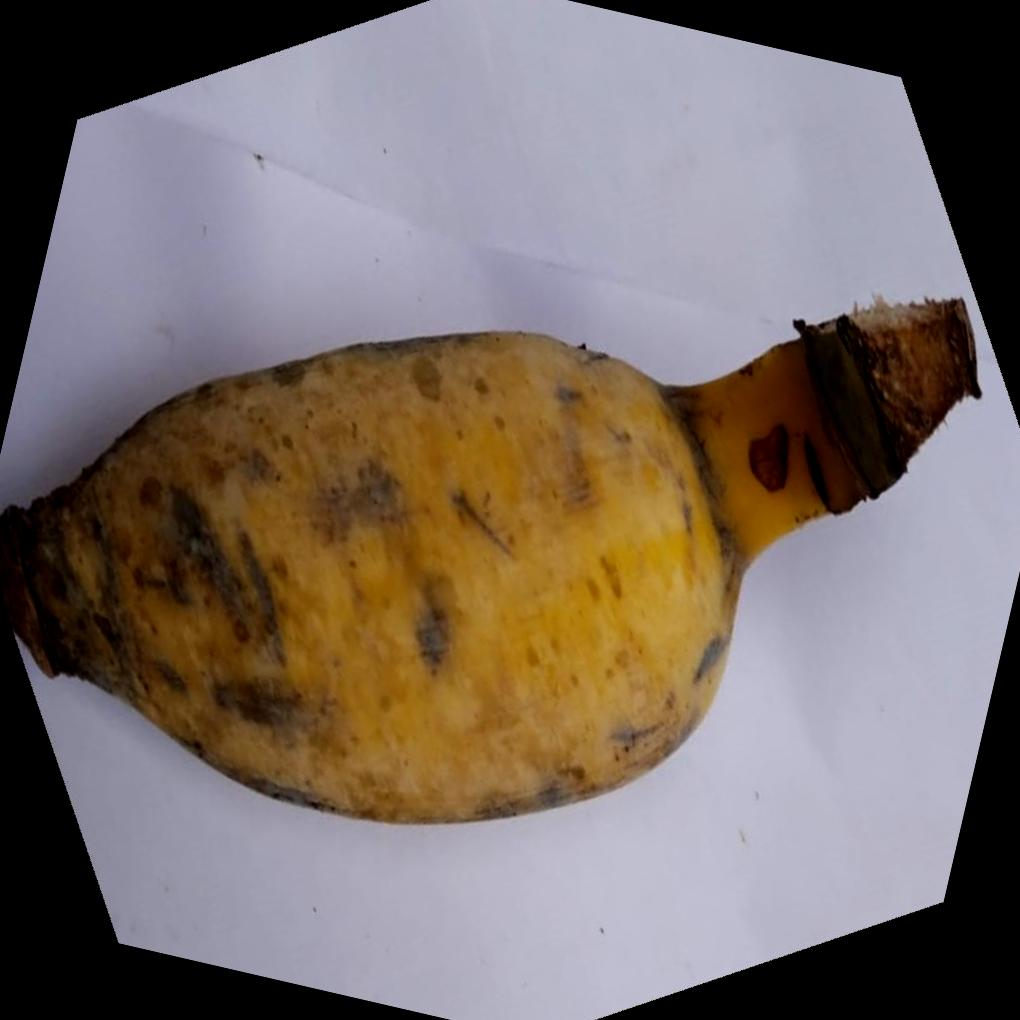Banana Ripe: (0, 106, 1000, 1020)
